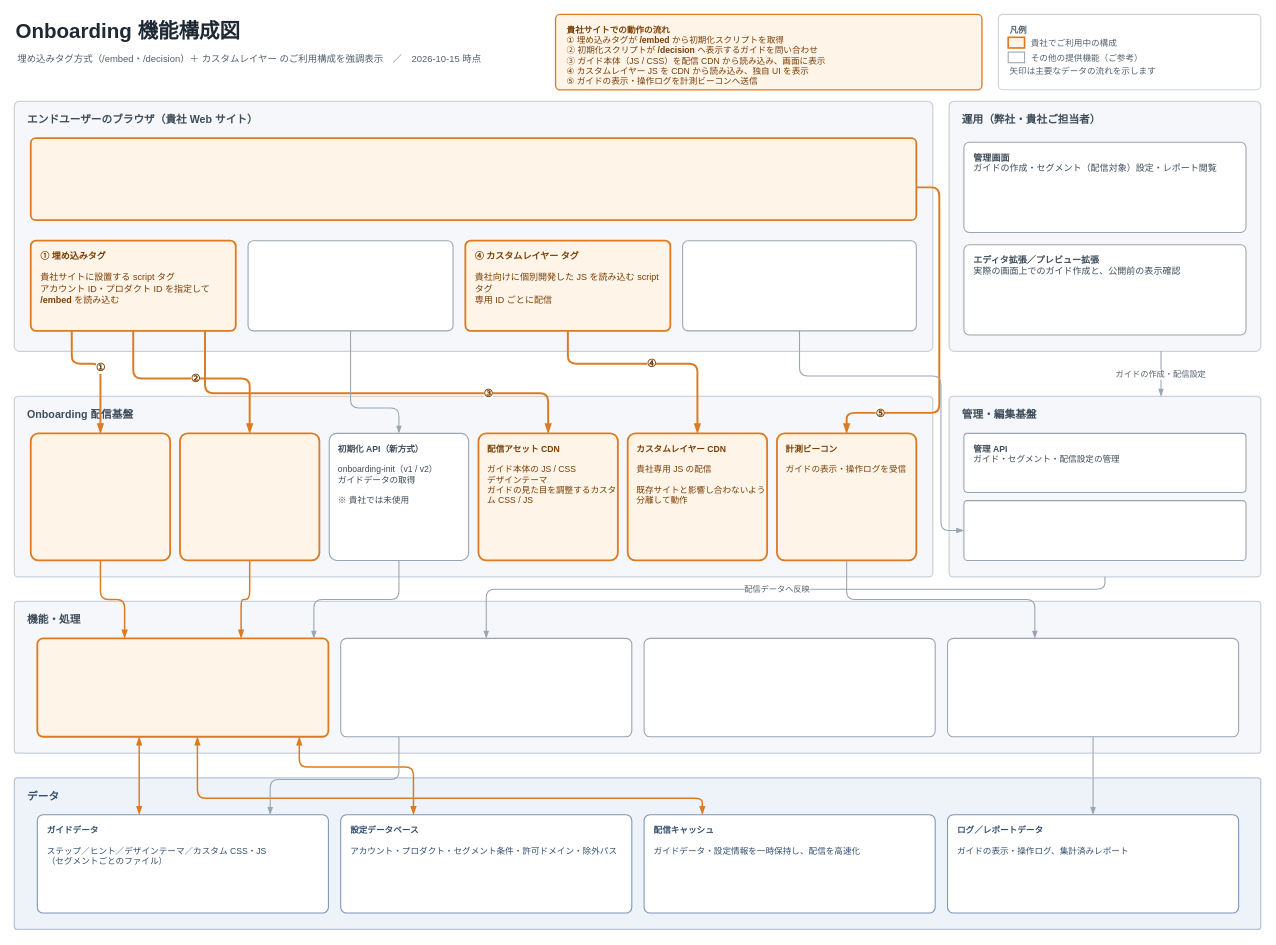
Image size: 1276x945. Some labels were removed from this diagram. Each missing label, with the centre of its shape:
"/decision 表示するガイドの決定 ・訪問者の属性からセグメント判定 ・該当するガイド定義を返却" belongs at point 249,496.
"/embed 初期化スクリプトの生成・返却 ・許可ドメインの認証 ・除外パスの判定 ・アカウント／プロダクト設定の取得" belongs at point 100,496.
"AI 機能 AI ヒント生成／AI チャット応答 （外部 AI サービスと連携し、ブラウザと直接やり取り） ※ 貴社では未使用" belongs at point 789,687.
"Chrome 拡張（ビューワー） タグを設置せず、拡張機能でガイドを表示する方式 ※ 貴社では未使用" belongs at point 799,285.
"ガイド管理・公開 管理画面・拡張機能で編集した内容を、配信用データへ反映" belongs at point 486,687.
"ガイド配信制御 ・許可ドメインの認証／除外パスの判定 ・訪問者属性によるセグメント判定 ・配信データのキャッシュ制御" belongs at point 182,687.
"ログ集計・レポート生成 計測ビーコンのログを定期的に集計し、管理画面のレポートへ反映" belongs at point 1093,687.
"画面に表示されるガイド UI ランチャー／ツアー／ヒント／ポップアップ／カスタムレイヤーの独自 UI 貴社サイトの既存の画面構造は変更せず、上に重ねて表示します" belongs at point 473,179.
"編集／同期 API 拡張機能からのガイド編集・同期" belongs at point 1104,530.
"配信タグ（新方式） onboarding-init.js を読み込む方式 ※ 貴社では未使用" belongs at point 350,285.
